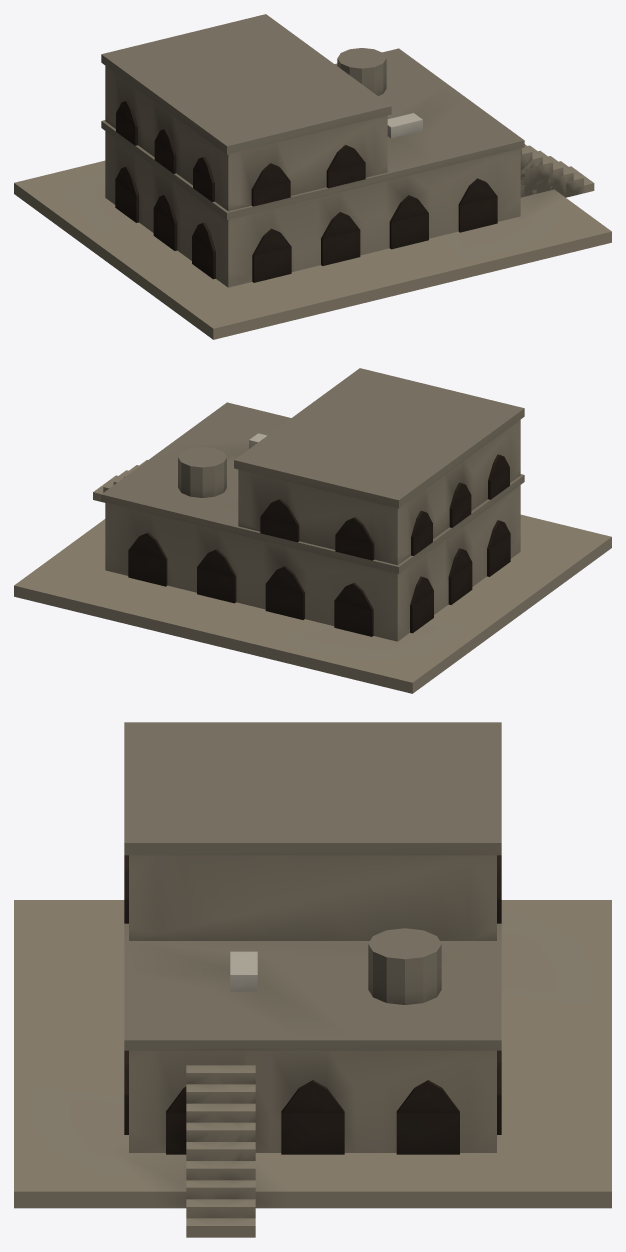
The model's file is pir-ghaib.glb.
The picture shows the model from 3 angles, top to bottom: view 1: azimuth 30°, elevation 25°; view 2: azimuth 150°, elevation 25°; view 3: azimuth 270°, elevation 25°; orthographic projection. The views are drawn at different scales.
Visible parts, largest first — view 1: p2_upper, p1_storeys, p0_base; view 2: p2_upper, p1_storeys, p0_base; view 3: p2_upper, p0_base, p1_storeys.
Part boxes in pixels (x1,y1,x2,y2): p2_upper: (101,14,594,211); p1_storeys: (101,48,524,287); p0_base: (14,160,611,339); p2_upper: (93,368,524,565); p1_storeys: (101,402,524,641); p0_base: (14,514,611,693); p2_upper: (124,722,501,1237); p0_base: (14,900,611,1208); p1_storeys: (124,923,501,1154).
Size of the model in its own units: 33 by 11.1 by 26.
